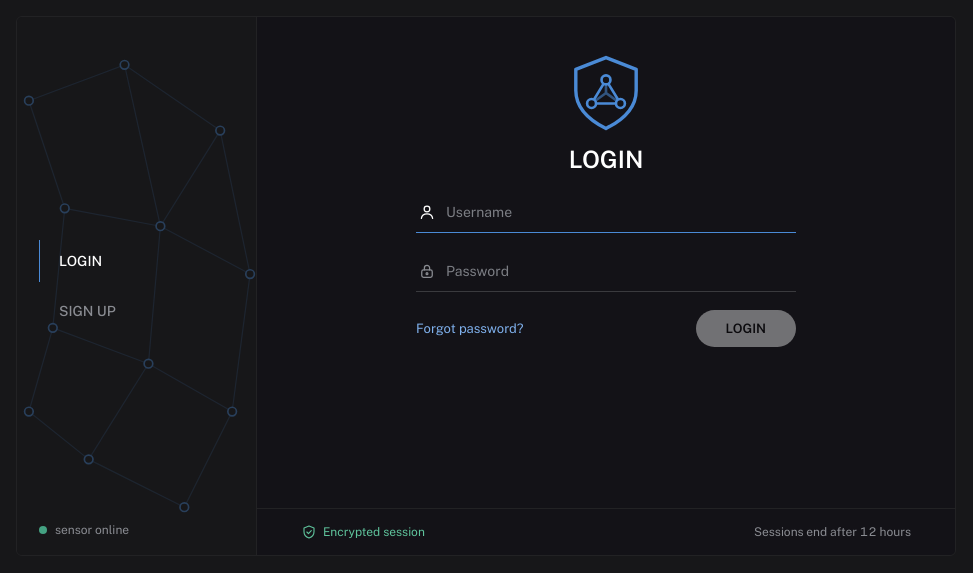
Test: signing up › tells a newcomer when the account waits for approval
Click the tab "SIGN UP" at (148, 311), box [39,290,256,332]
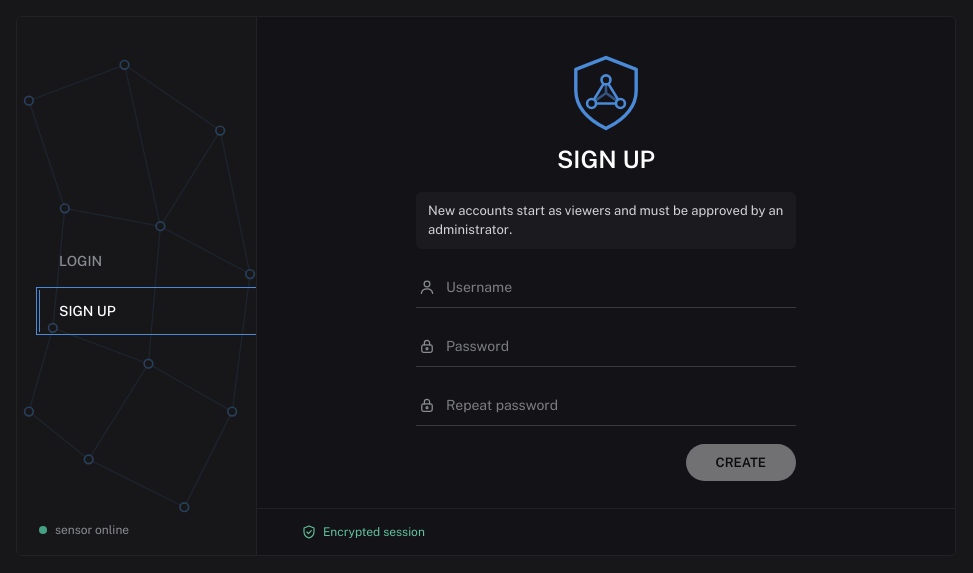
Type "bob" into the field with placeholder "Username" at (620, 287), box [446,273,794,301]
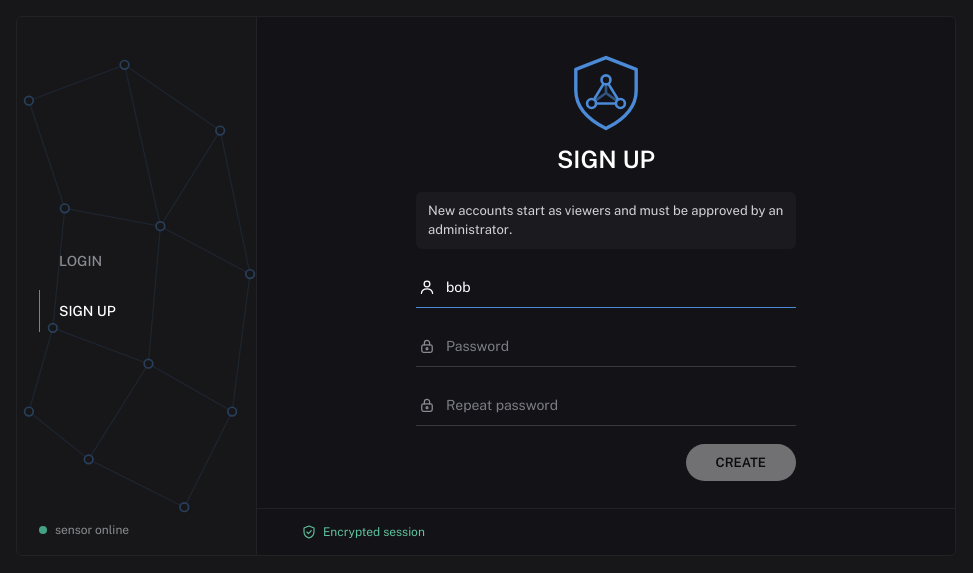
Type "correct horse battery" into the password field with placeholder "Password" at (620, 346), box [446,332,794,360]
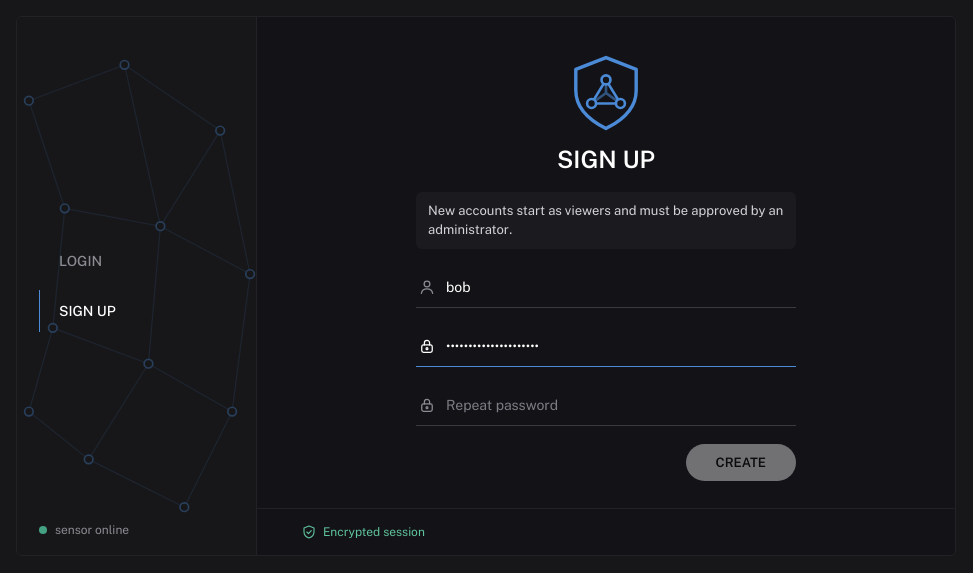
Type "correct horse battery" into the password field with placeholder "Repeat password" at (620, 405), box [446,391,794,419]
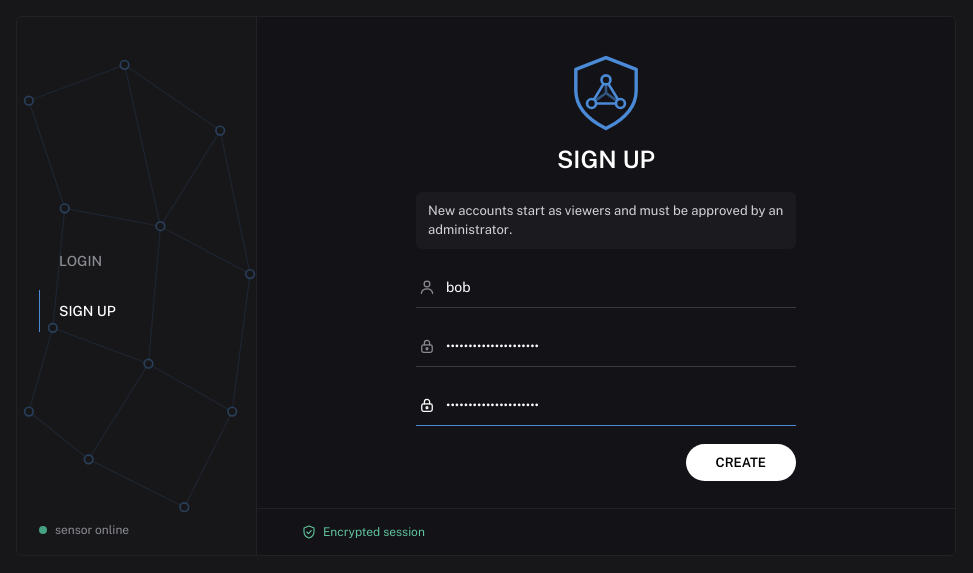
Click the button with class "auth-go" at (741, 462), box [686,444,796,481]
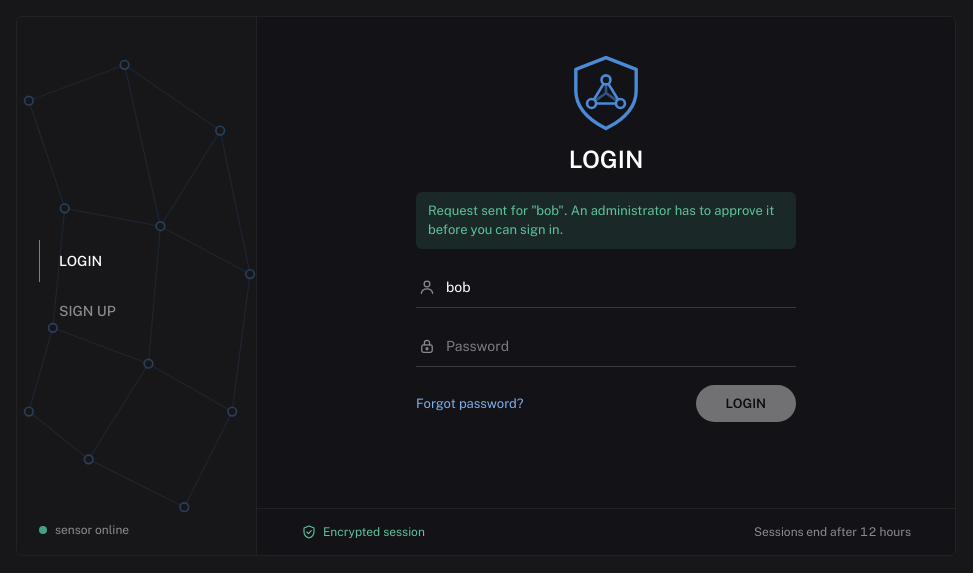
Expected: the text "has to approve it" is shown, [428,203,774,237]
